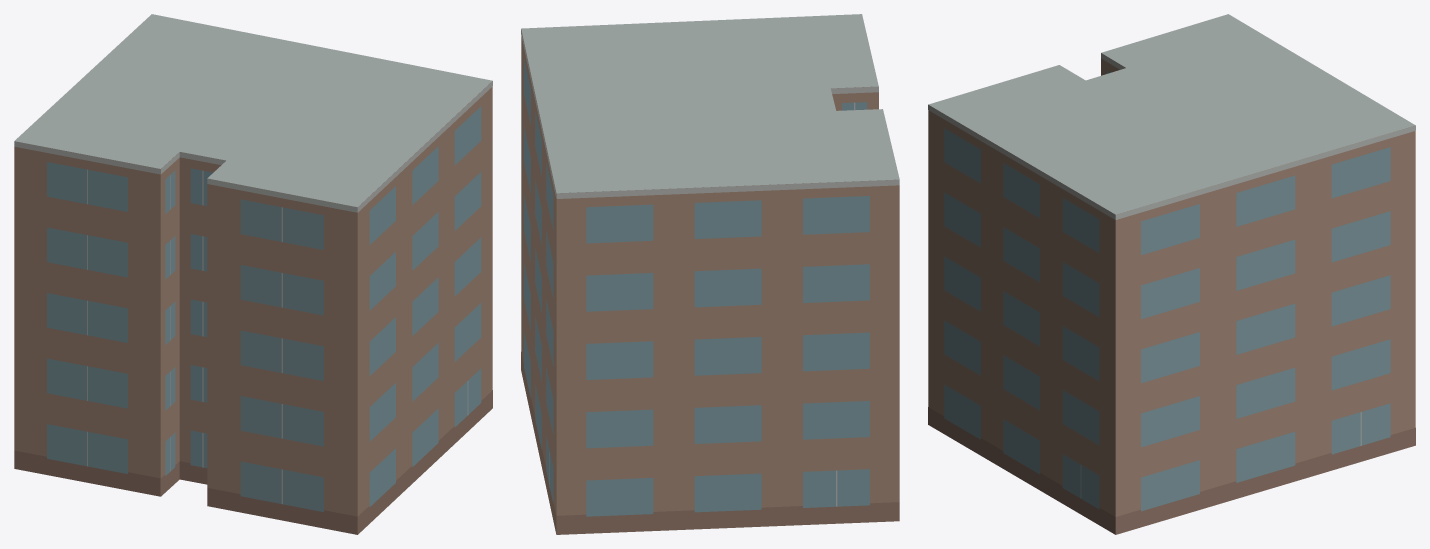
File: survey-upis-32958803.glb
3 views of the same model, side by side, from view 1: azimuth 30°, elevation 25°; view 2: azimuth 150°, elevation 25°; view 3: azimuth 270°, elevation 25° (orthographic). The views are drawn at different scales.
Visible parts, largest first — view 1: survey-upis-32958803.tmp; view 2: survey-upis-32958803.tmp; view 3: survey-upis-32958803.tmp.
Part boxes in pixels (left/top/right/bottom): survey-upis-32958803.tmp: left=14, top=14, right=492, bottom=534; survey-upis-32958803.tmp: left=521, top=14, right=899, bottom=534; survey-upis-32958803.tmp: left=928, top=14, right=1415, bottom=534.
Size of the model in its own units: 19.37 by 14.4 by 19.88.
